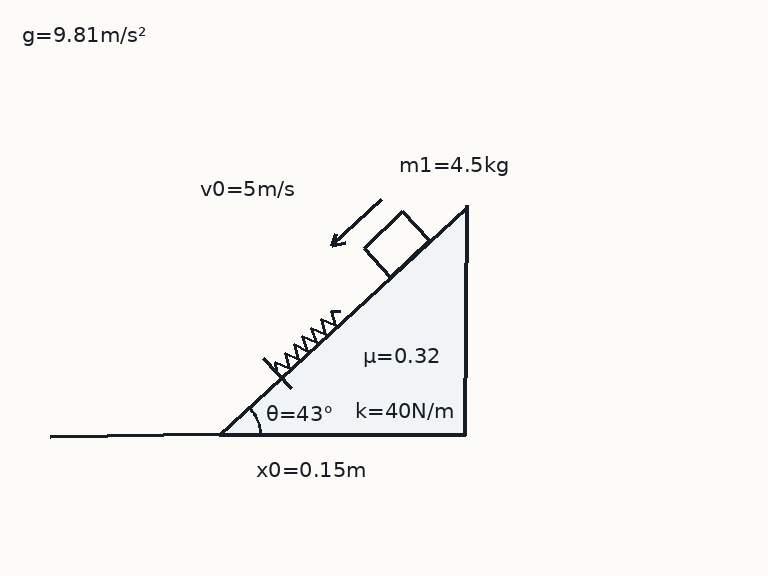block: (361, 210, 431, 279)
ramp: (218, 204, 468, 437)
spring: (273, 309, 341, 373)
